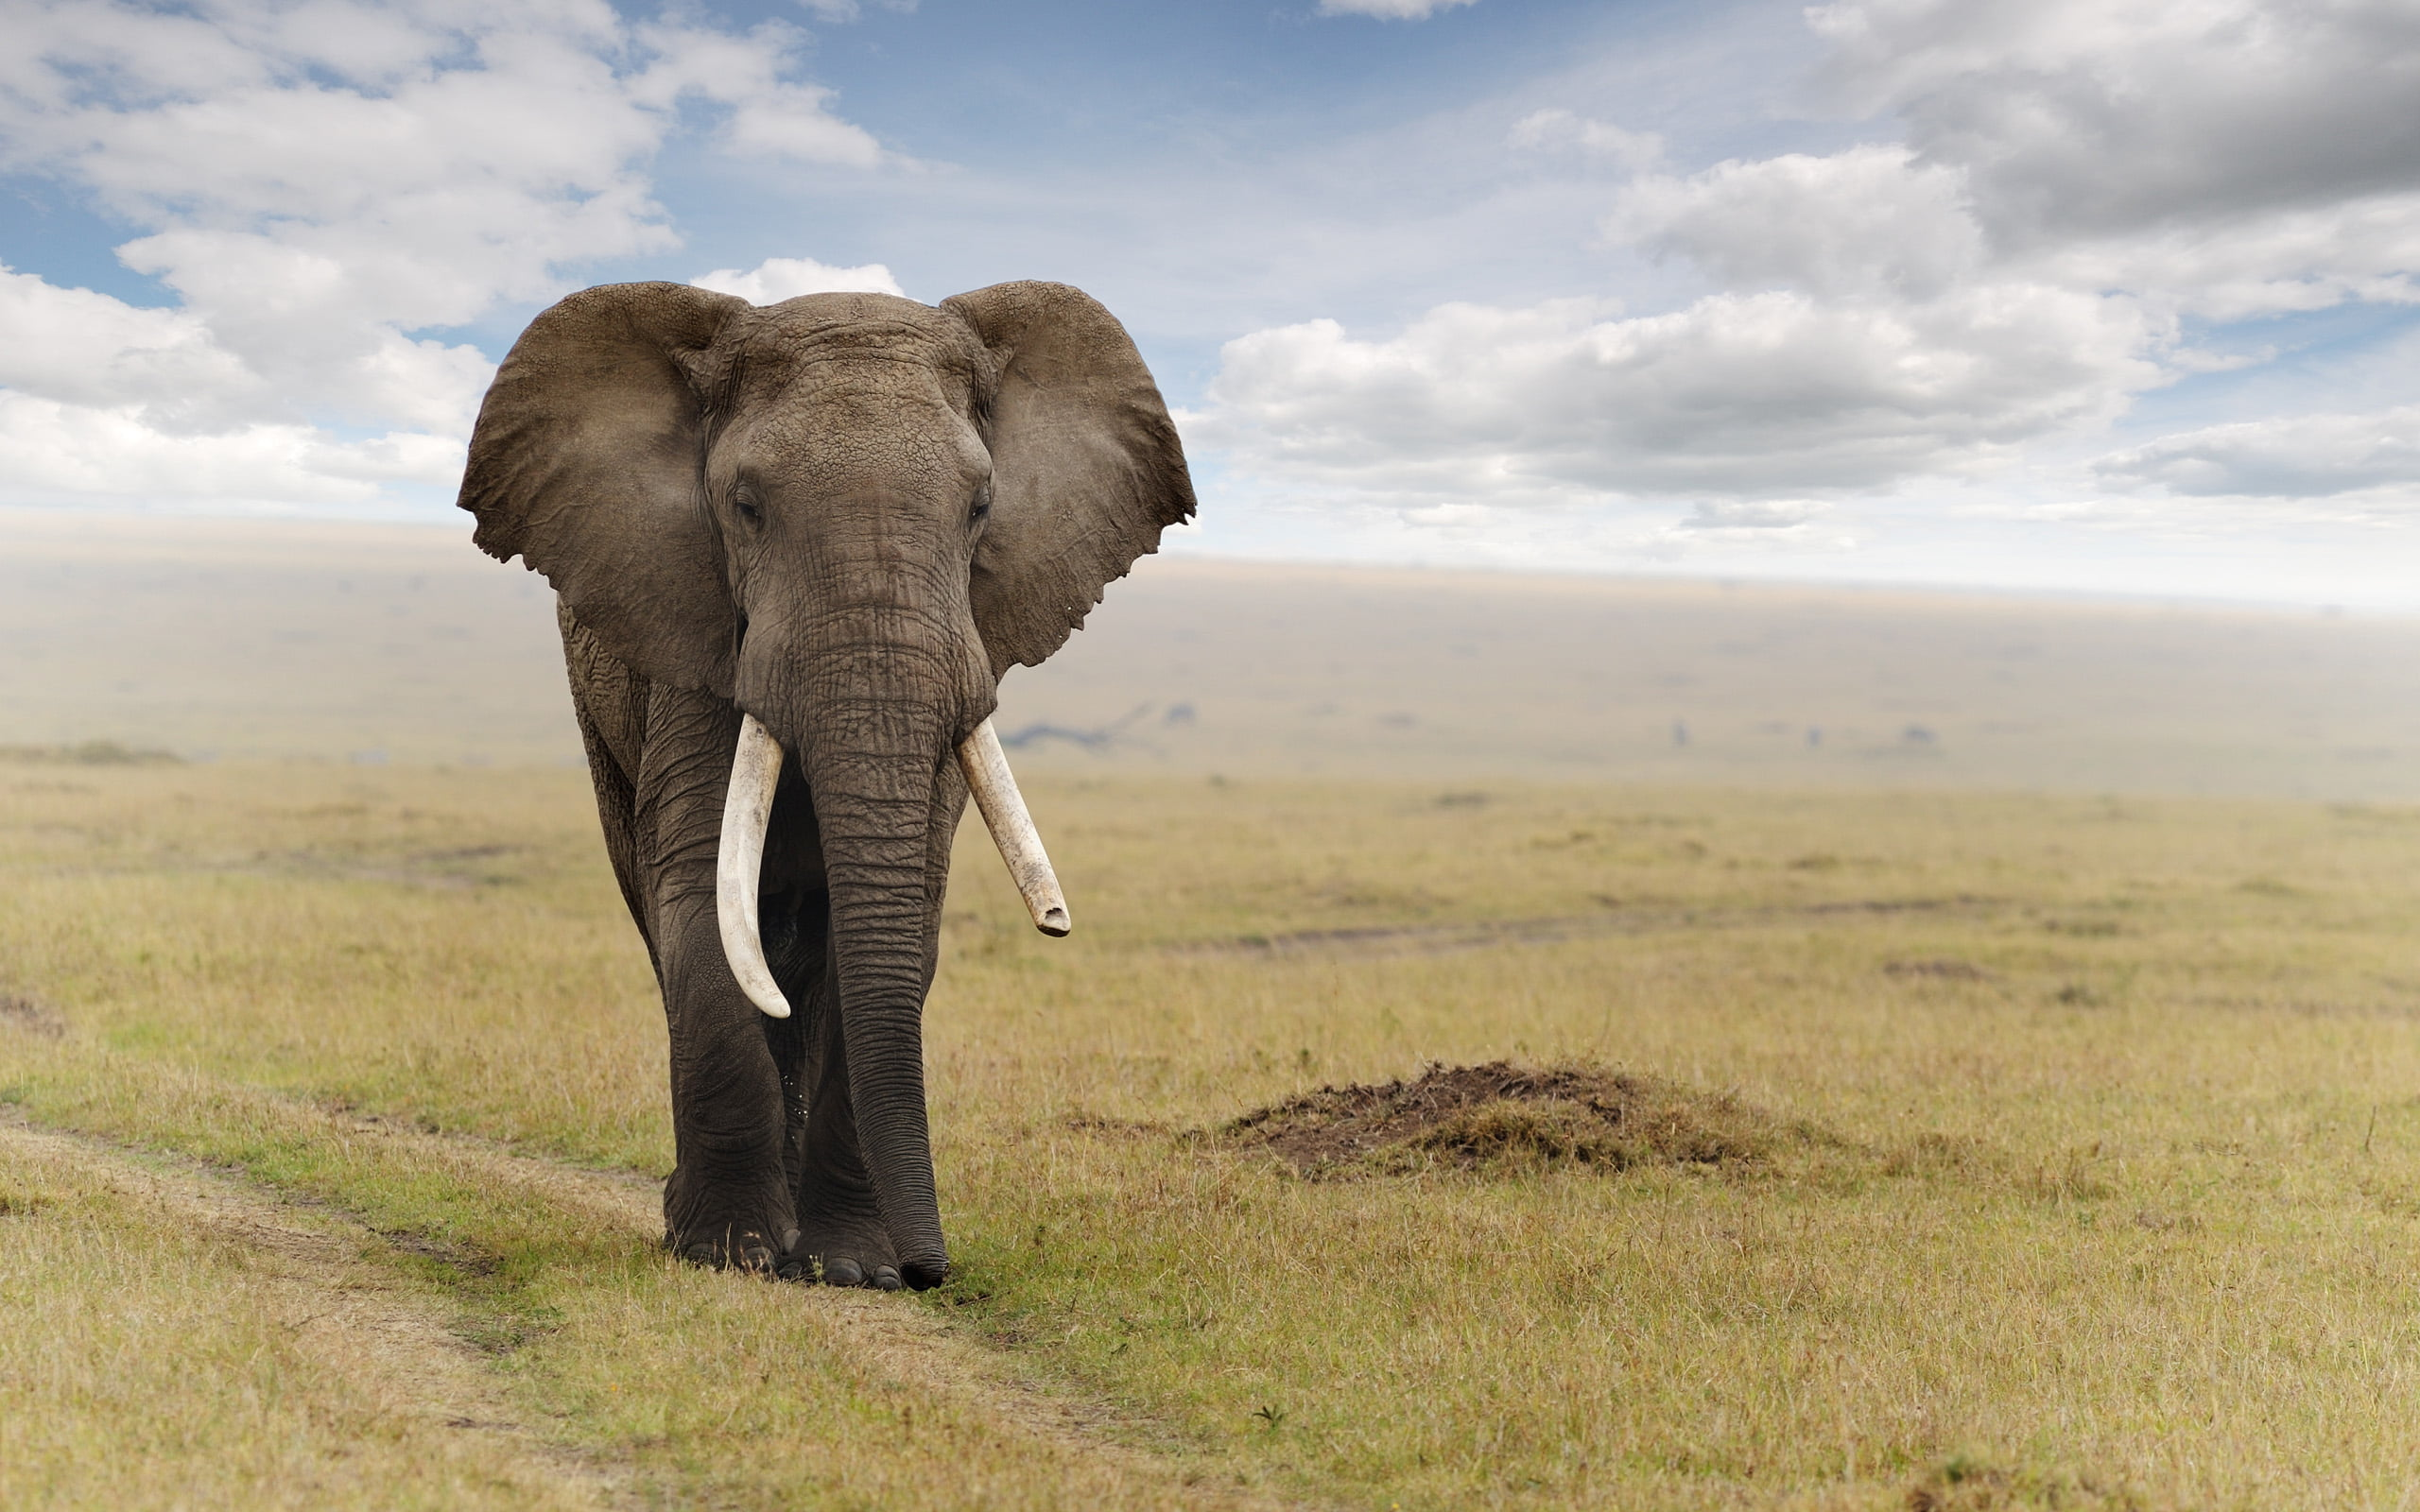africanelephant: (554, 287, 1112, 972)
